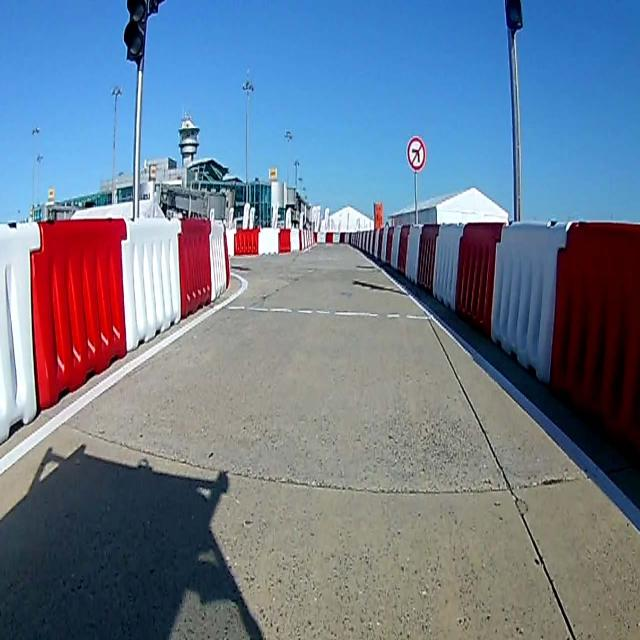soladonulmez: (406, 137, 426, 171)
